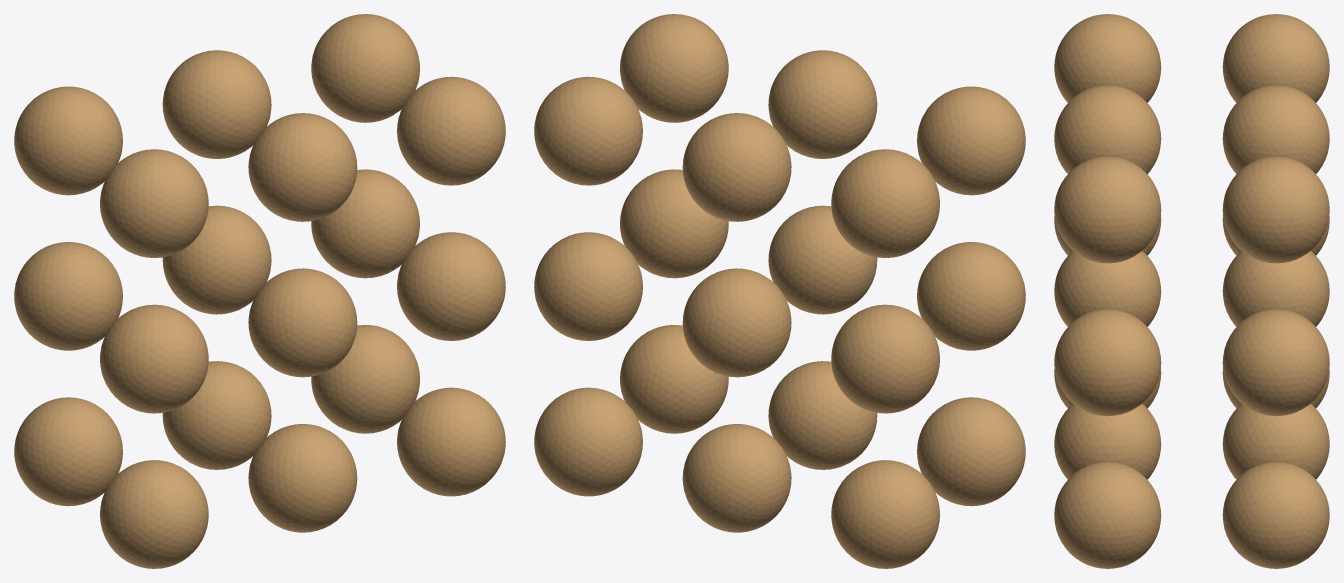
The model's file is rede_metalica_Cu.glb.
3 renders of one model, left to right at view 1: azimuth 30°, elevation 25°; view 2: azimuth 150°, elevation 25°; view 3: azimuth 270°, elevation 25°, orthographic.
Parts seen in each view (by area): view 1: Cu_9, Cu_1, Cu_13, Cu_3, Cu_7, Cu_15, Cu_17, Cu_5, Cu_11, Cu_4, Cu_16, Cu_2 (+6 smaller); view 2: Cu_8, Cu_0, Cu_12, Cu_2, Cu_6, Cu_14, Cu_16, Cu_4, Cu_10, Cu_5, Cu_17, Cu_3 (+6 smaller); view 3: Cu_12, Cu_13, Cu_16, Cu_17, Cu_14, Cu_15, Cu_4, Cu_5, Cu_10, Cu_11, Cu_6, Cu_7 (+6 smaller).
Part boxes in pixels (box(x1,y1,x2,y2)): Cu_9: box(248, 268, 357, 377); Cu_1: box(100, 460, 208, 568); Cu_13: box(397, 387, 505, 496); Cu_3: box(100, 304, 208, 413); Cu_7: box(248, 424, 357, 532); Cu_15: box(397, 232, 505, 340); Cu_17: box(397, 76, 505, 185); Cu_5: box(100, 149, 208, 257); Cu_11: box(248, 113, 357, 221); Cu_4: box(14, 86, 122, 195); Cu_16: box(311, 14, 419, 122); Cu_2: box(14, 242, 122, 350); Cu_8: box(682, 268, 791, 377); Cu_0: box(831, 460, 939, 568); Cu_12: box(534, 387, 642, 496); Cu_2: box(831, 304, 939, 413); Cu_6: box(682, 424, 791, 532); Cu_14: box(534, 232, 642, 340); Cu_16: box(534, 76, 642, 185); Cu_4: box(831, 149, 939, 257); Cu_10: box(682, 113, 791, 221); Cu_5: box(917, 86, 1025, 195); Cu_17: box(620, 14, 728, 122); Cu_3: box(917, 242, 1025, 350); Cu_12: box(1222, 462, 1329, 568); Cu_13: box(1054, 462, 1161, 568); Cu_16: box(1222, 156, 1329, 263); Cu_17: box(1054, 156, 1161, 263); Cu_14: box(1222, 309, 1329, 416); Cu_15: box(1054, 309, 1161, 416); Cu_4: box(1222, 14, 1329, 102); Cu_5: box(1054, 14, 1161, 102); Cu_10: box(1222, 85, 1329, 173); Cu_11: box(1054, 85, 1161, 173); Cu_6: box(1222, 403, 1329, 479); Cu_7: box(1054, 403, 1161, 479).
Bounding box in the file's own units: 2.24 × 2.24 × 1.39.
